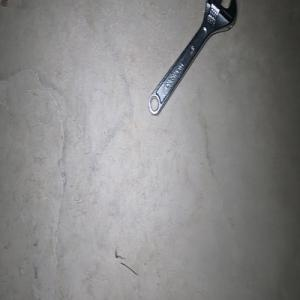Wrench: (148, 0, 237, 115)
